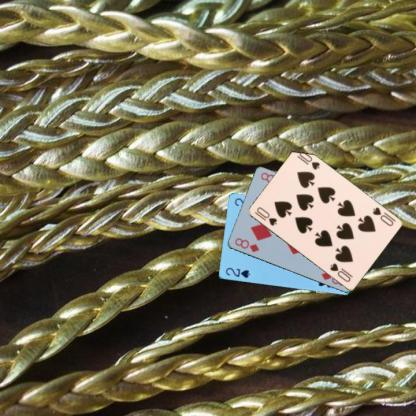10s: (370, 204, 394, 228), (254, 205, 278, 227)
2s: (223, 265, 251, 279)
8d: (232, 235, 260, 254)
